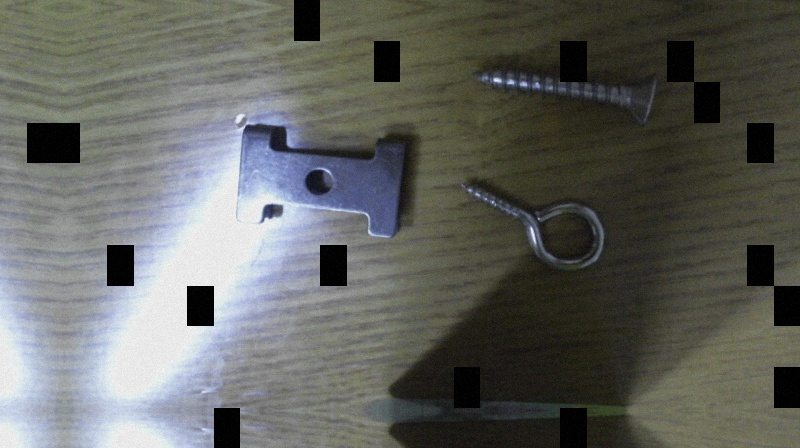O001: (458, 176, 609, 271)
O002: (234, 122, 409, 240)
S001: (468, 64, 662, 128)
